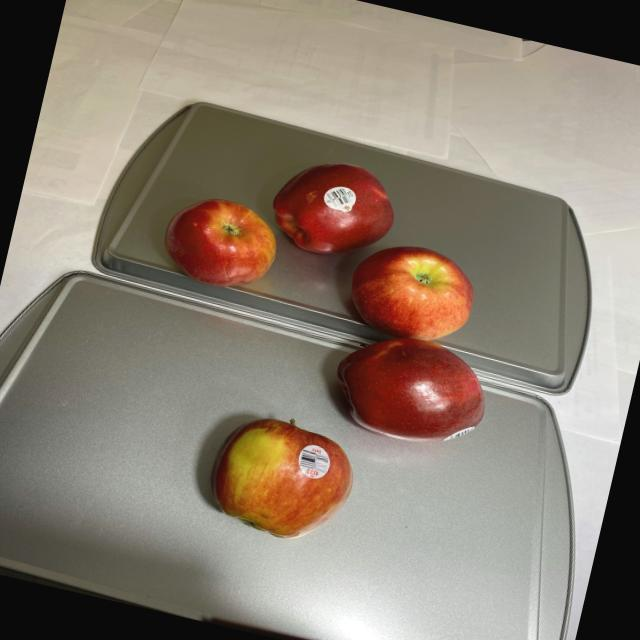apple: (132, 126, 536, 456), (192, 400, 364, 554)
